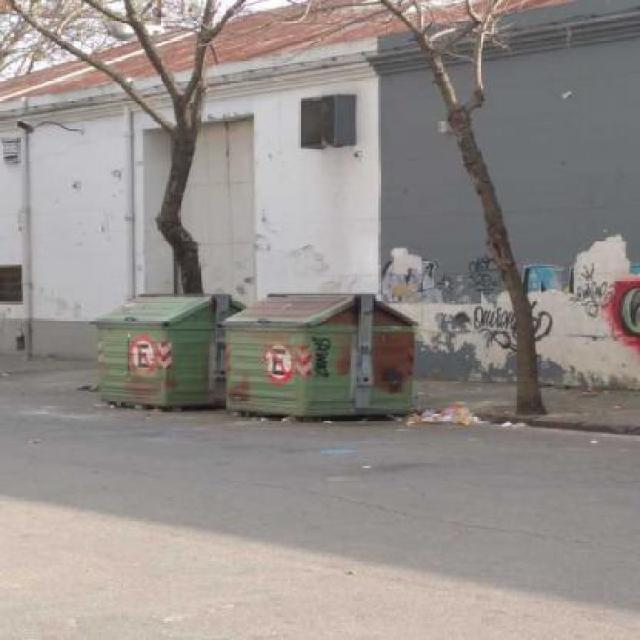garbage: (368, 399, 510, 435)
